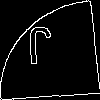J: (24, 25, 55, 75)
